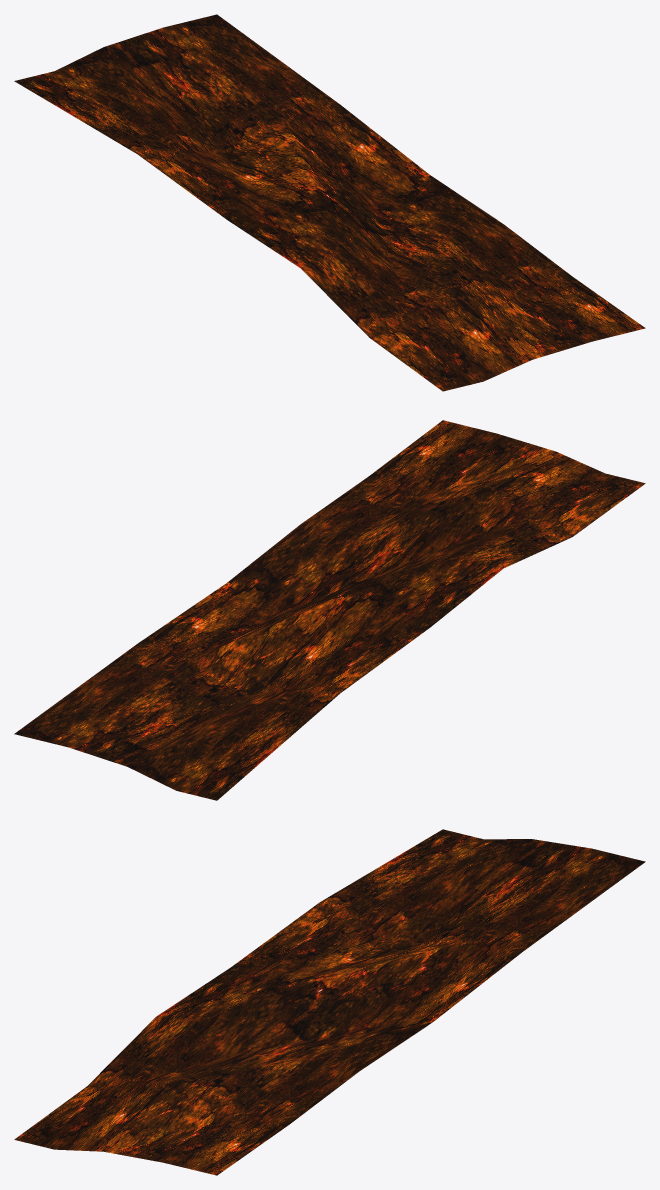
The model's file is yangjiang02.fbx.
3 views of the same model, one above another, from view 1: azimuth 30°, elevation 25°; view 2: azimuth 150°, elevation 25°; view 3: azimuth 330°, elevation 25° (orthographic).
Parts seen in each view (by area): view 1: yangjiang02; view 2: yangjiang02; view 3: yangjiang02.
Part boxes in pixels (x1,y1,x2,y2): yangjiang02: (14, 14, 645, 391); yangjiang02: (14, 420, 645, 800); yangjiang02: (14, 829, 645, 1175).
Bounding box in the file's own units: 19.77 × 3.15 × 72.31.
